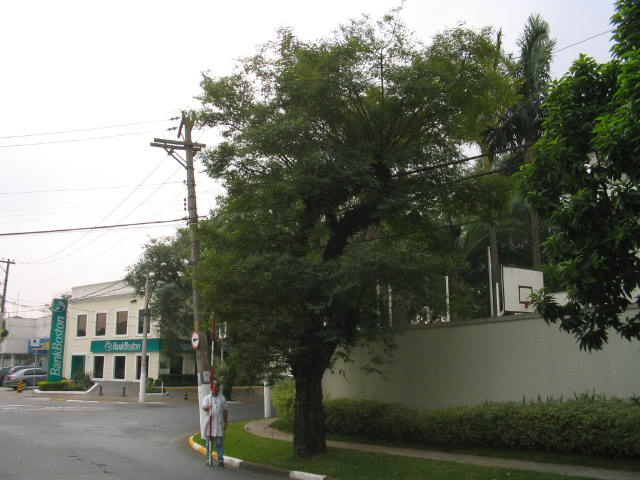crown: (188, 3, 522, 371)
stem: (279, 367, 336, 460)
stick: (199, 317, 222, 466)
tree: (186, 1, 527, 463)
